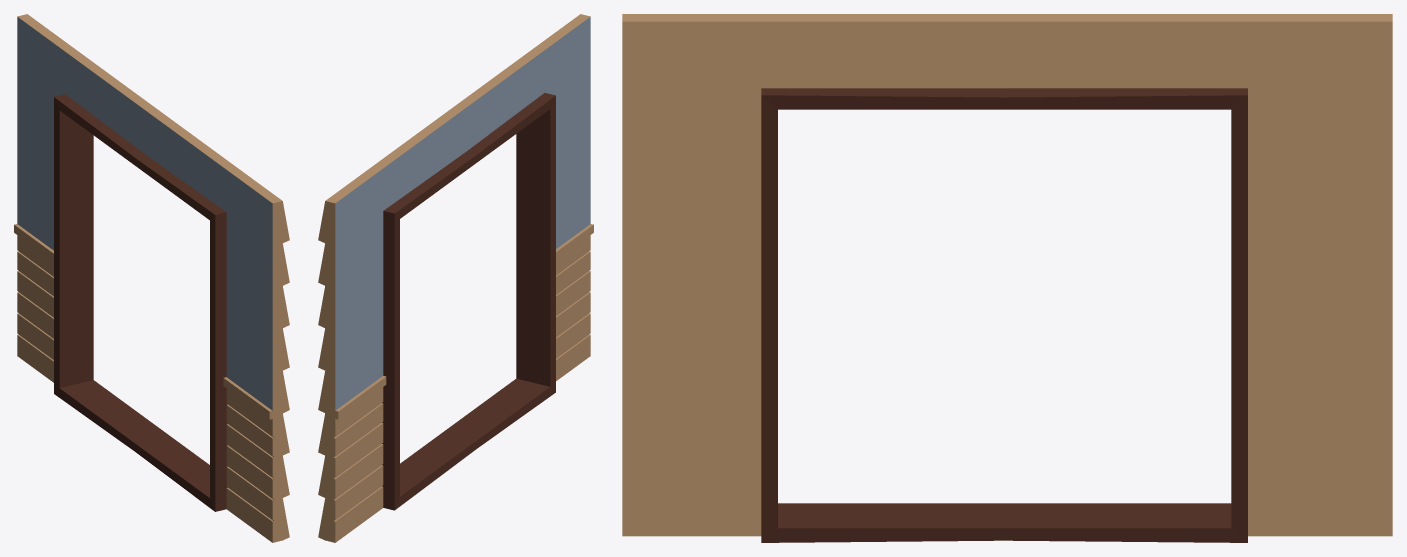
File: Wall Door C.glb
The picture shows the model from 3 angles, left to right: view 1: azimuth 30°, elevation 25°; view 2: azimuth 150°, elevation 25°; view 3: azimuth 270°, elevation 25°; orthographic projection. The views are drawn at different scales.
Parts seen in each view (by area): view 1: Wall Door C; view 2: Wall Door C; view 3: Wall Door C.
Boxes of the visible parts, bbox=[...] form: Wall Door C: bbox=[14, 14, 289, 542]; Wall Door C: bbox=[318, 14, 593, 542]; Wall Door C: bbox=[622, 14, 1392, 542].
Size of the model in its own units: 23.39 by 220 by 300.
